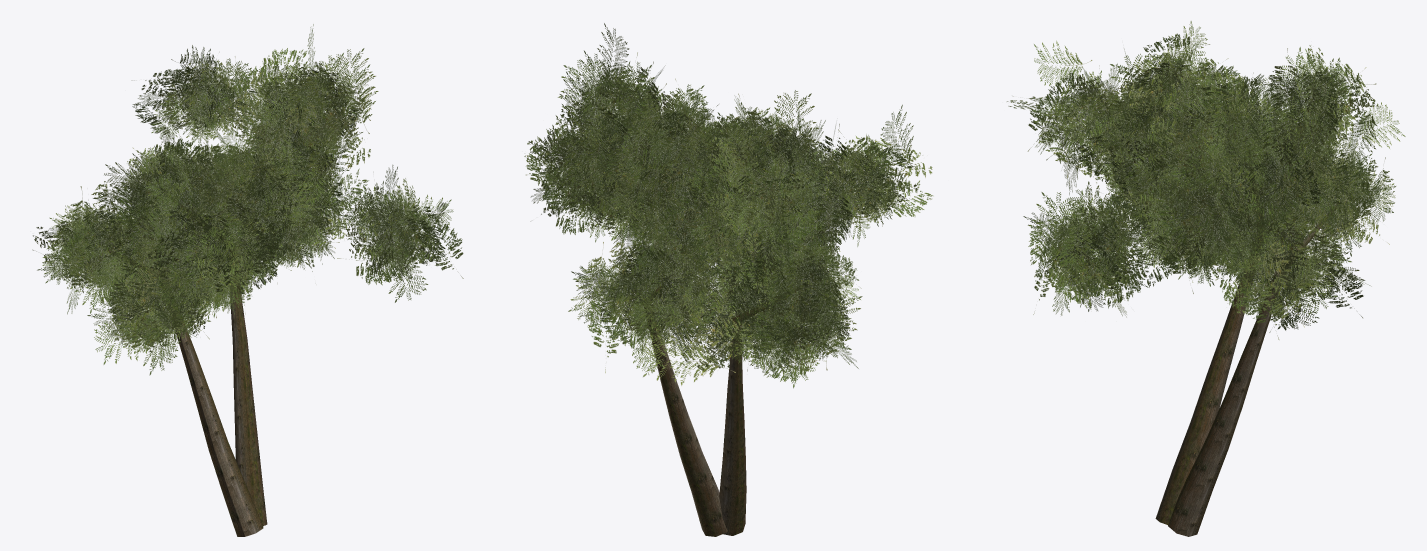
File: tamarisk_5.glb
The picture shows the model from 3 angles, left to right: view 1: azimuth 30°, elevation 25°; view 2: azimuth 150°, elevation 25°; view 3: azimuth 270°, elevation 25°; orthographic projection. The views are drawn at different scales.
Parts seen in each view (by area): view 1: tamarisk; view 2: tamarisk; view 3: tamarisk.
Part boxes in pixels (<box>): tamarisk: <box>32,24,463,536</box>; tamarisk: <box>524,23,932,536</box>; tamarisk: <box>1007,21,1405,536</box>.
Bounding box in the file's own units: 5.49 × 6.85 × 5.09.
Materials: 2 (2 with a texture image).
